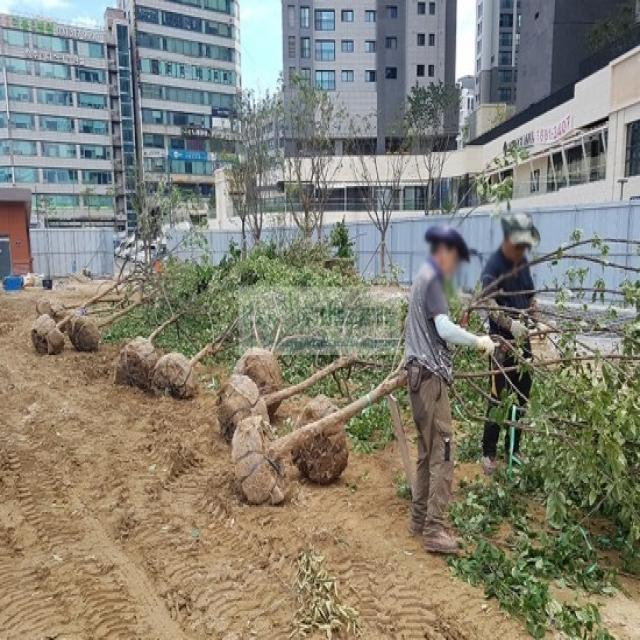plant: (232, 235, 640, 640), (292, 304, 492, 487), (32, 183, 206, 354), (218, 294, 408, 443), (233, 267, 359, 416), (154, 266, 288, 400), (115, 254, 249, 386), (272, 75, 346, 252), (206, 90, 284, 255), (348, 106, 414, 287), (68, 270, 176, 351), (404, 80, 463, 214)
